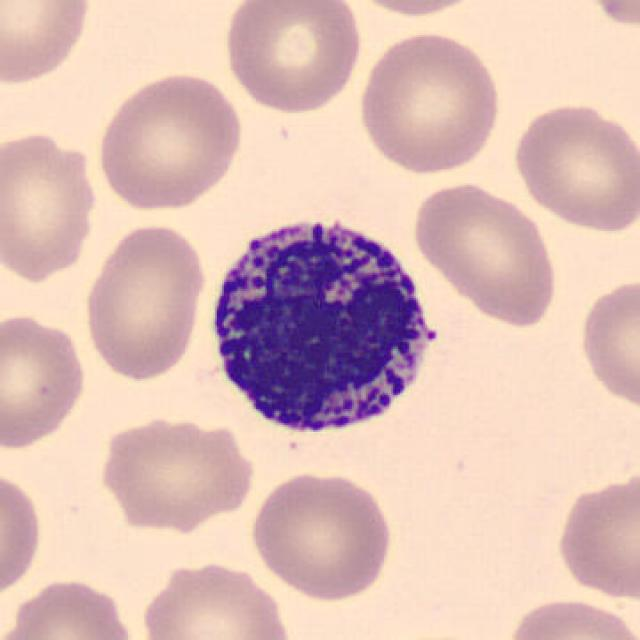Basophil: (196, 199, 452, 448)
RBC: (409, 178, 562, 330), (93, 67, 247, 213), (354, 28, 505, 176), (80, 219, 208, 384), (246, 467, 396, 603), (94, 412, 260, 532), (507, 98, 638, 234), (218, 0, 366, 116), (0, 127, 101, 285), (135, 557, 297, 640), (0, 309, 91, 453), (551, 469, 640, 603), (574, 273, 638, 416), (2, 575, 140, 640), (0, 0, 96, 88), (0, 465, 46, 603), (503, 594, 638, 640), (337, 0, 490, 19), (576, 0, 640, 32)
